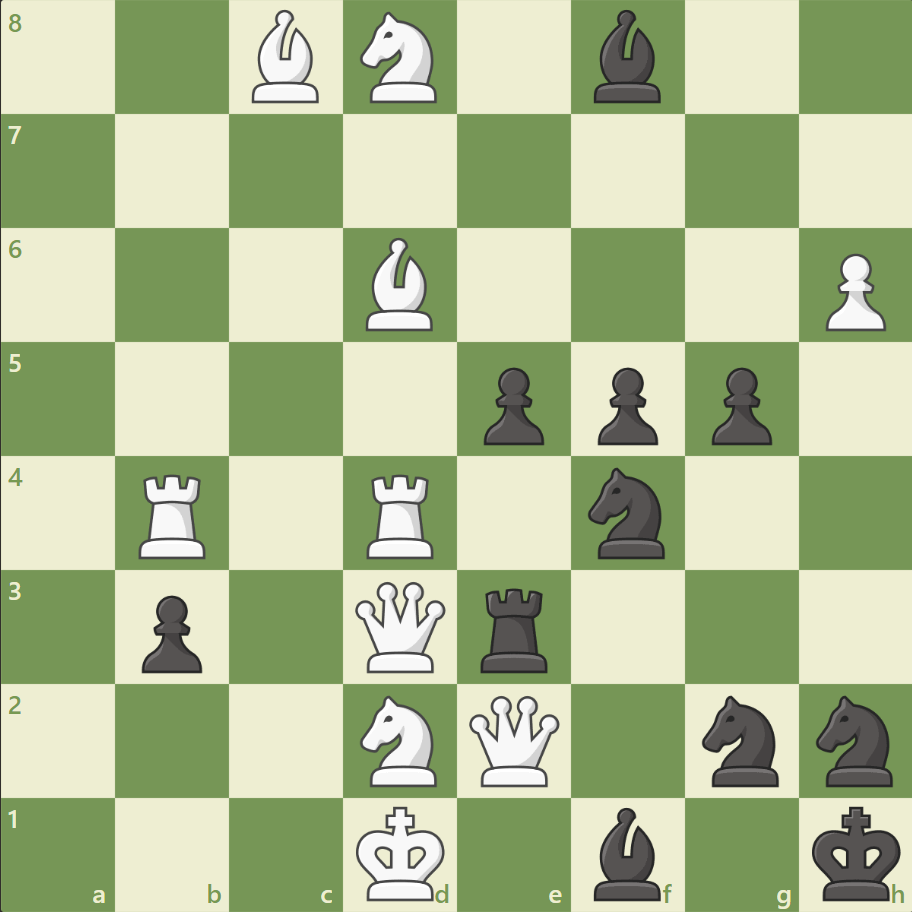B: (244, 6, 328, 109), (358, 233, 442, 336)
K: (351, 798, 451, 906)
N: (351, 7, 449, 110), (351, 688, 449, 791)
P: (815, 246, 889, 337)
Q: (351, 576, 450, 676), (464, 690, 563, 789)
R: (133, 466, 215, 563), (360, 466, 442, 563)
b: (585, 6, 669, 109), (585, 801, 669, 904)
k: (806, 798, 906, 906)
n: (579, 461, 676, 564), (692, 688, 789, 791), (806, 688, 903, 791)
p: (474, 359, 549, 450), (701, 359, 776, 450), (133, 586, 208, 677), (588, 359, 662, 450)
r: (473, 579, 556, 676)
